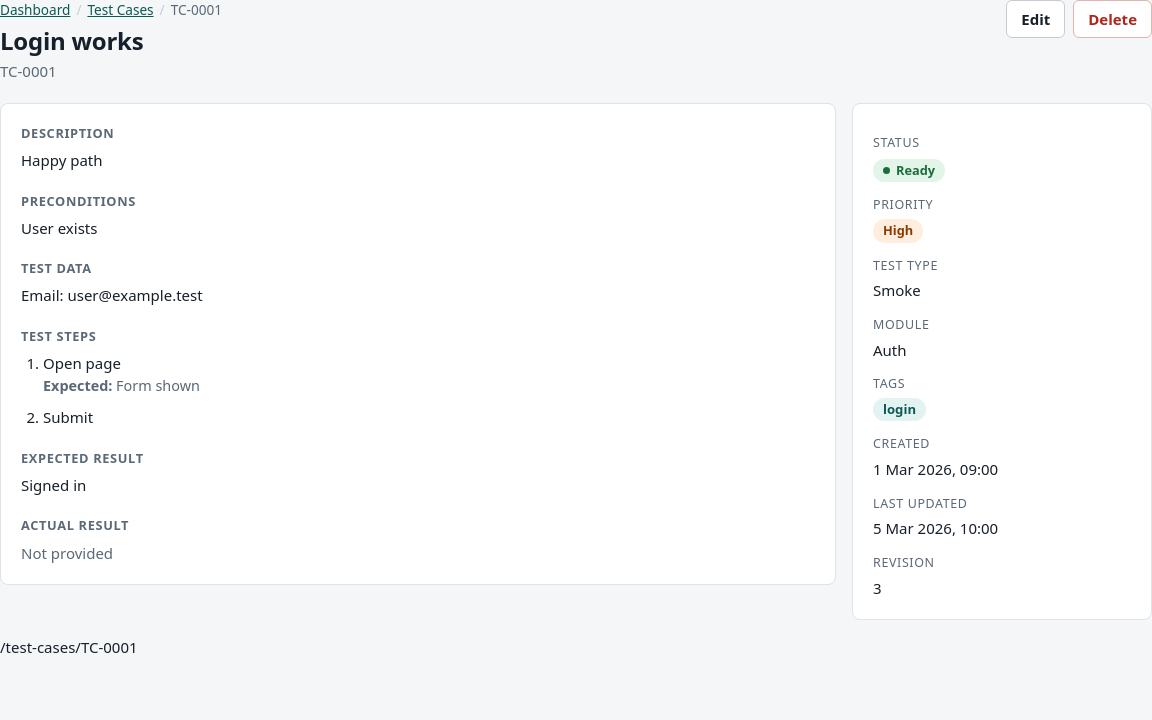
Test case: TestCaseDetailPage › keeps the record and tells the user when deletion fails
Click the button "Delete".
click(1113, 19)  # box [1073,0,1151,38]
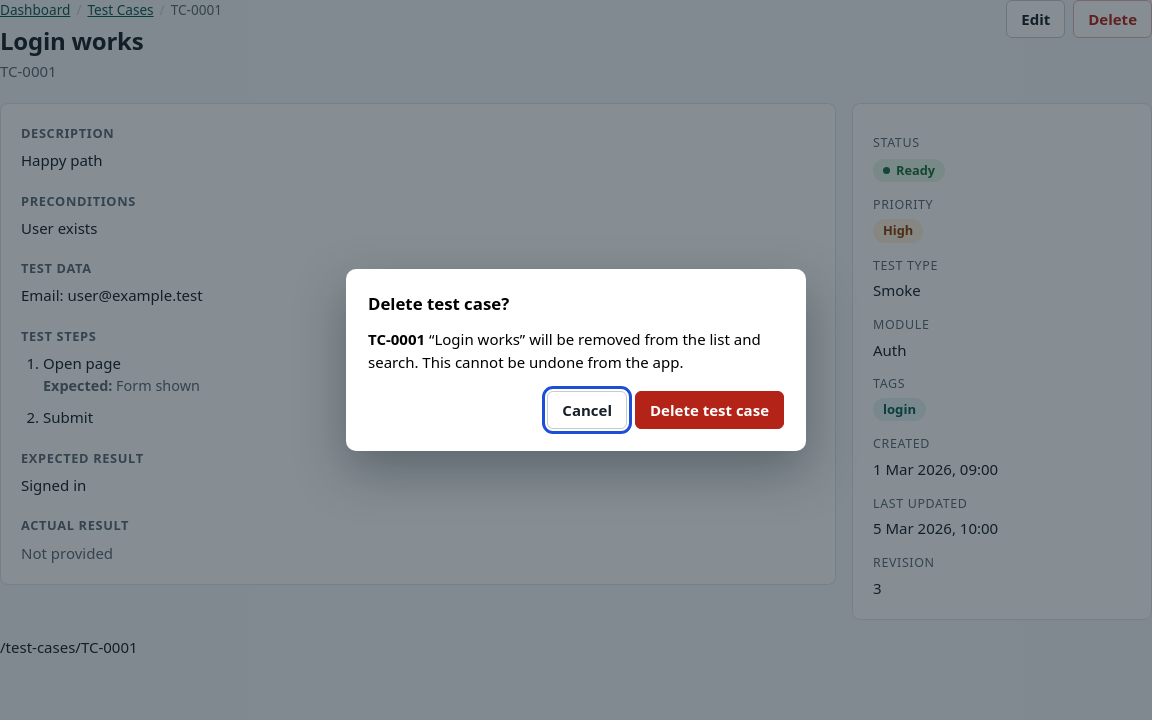
Click the button "Delete test case".
click(710, 410)  # box [635,391,784,429]
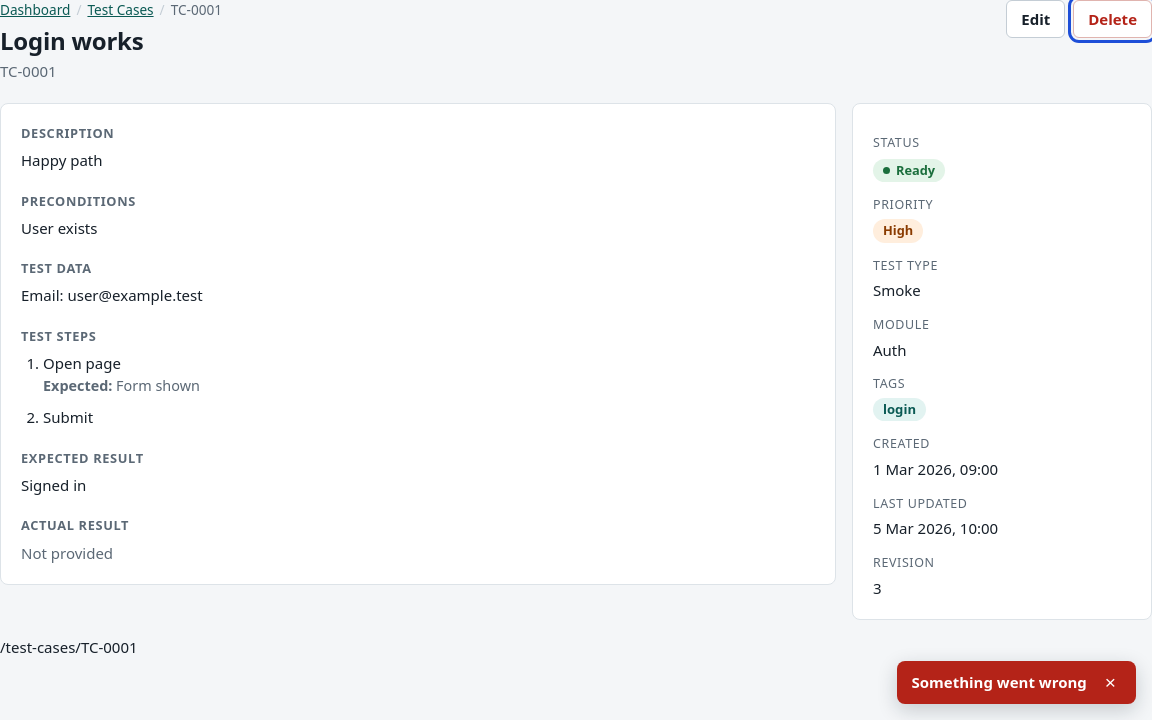
Expected: the heading "Login works" is shown, [0,24,143,57]
Now the message shows "Something went wrong", box [912,672,1087,692]
